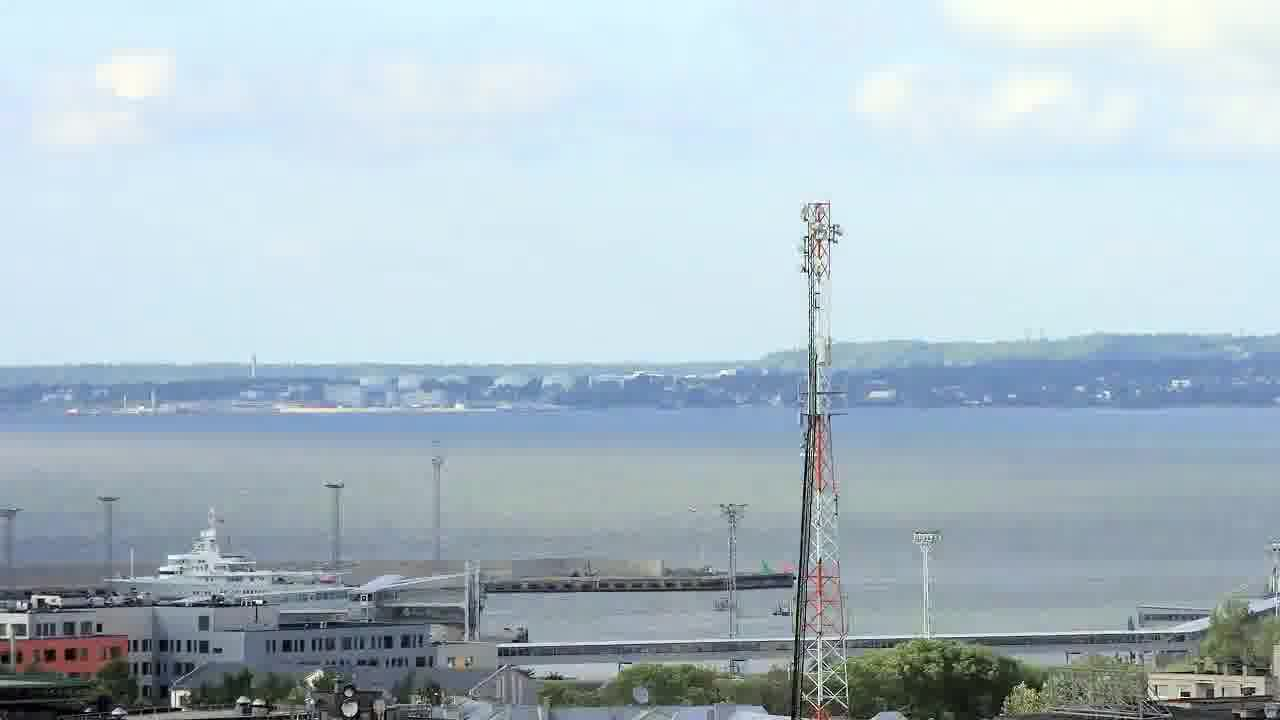type-0: (768, 587, 813, 639), (709, 566, 744, 627)
type-3: (98, 503, 361, 603)
